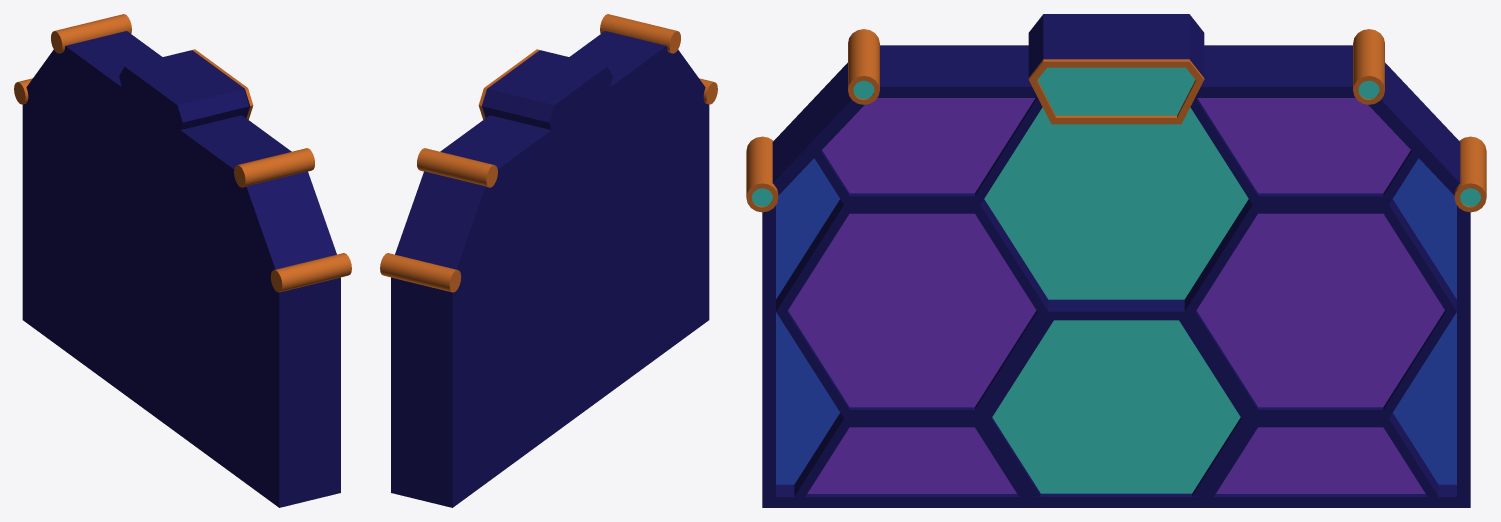
Rendered from BStage_l 1.fbx.
3 views of the same model, side by side, from view 1: azimuth 30°, elevation 25°; view 2: azimuth 150°, elevation 25°; view 3: azimuth 270°, elevation 25° (orthographic). The views are drawn at different scales.
Visible parts, largest first — view 1: Cylinder.003; view 2: Cylinder.003; view 3: Cylinder.003.
Part boxes in pixels (bbox=[...]): Cylinder.003: bbox=[14, 14, 351, 507]; Cylinder.003: bbox=[380, 14, 717, 507]; Cylinder.003: bbox=[746, 14, 1486, 507].
Bounding box in the file's own units: 119 × 754 × 509.
